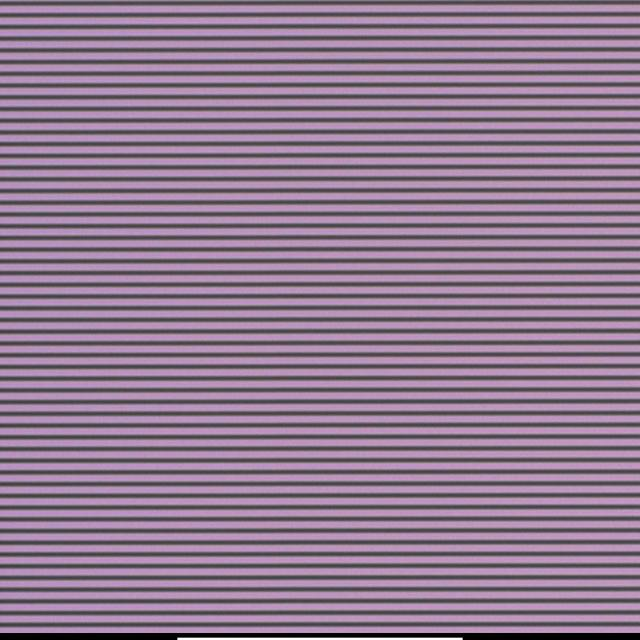nonvisual: (346, 338, 352, 346)
